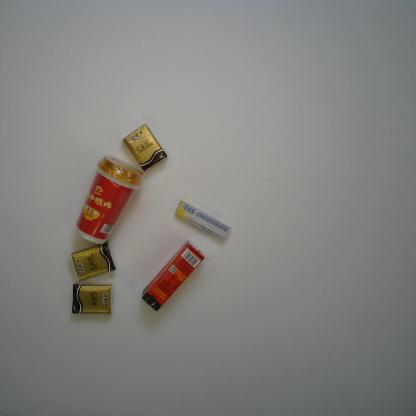Candy: (174, 200, 232, 241)
Drink: (142, 240, 205, 312)
Instant Drink: (74, 154, 144, 246)
Tissue: (122, 124, 167, 173), (70, 242, 116, 282), (72, 283, 113, 314)
